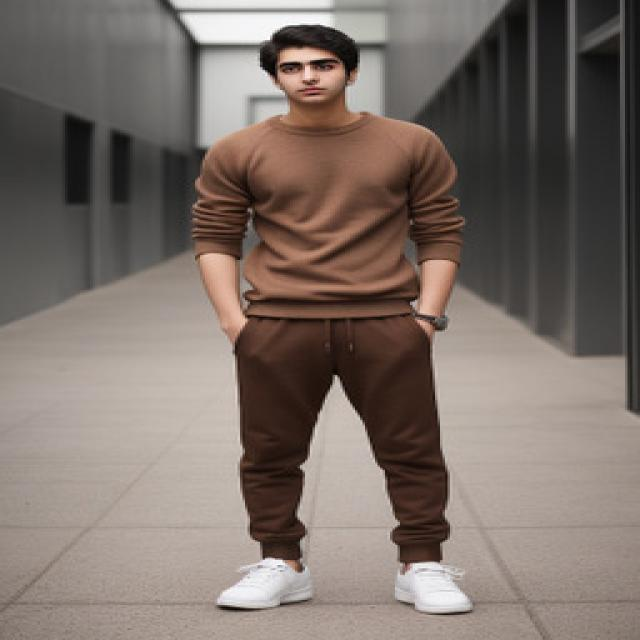Ai human 2: (178, 0, 527, 640)
